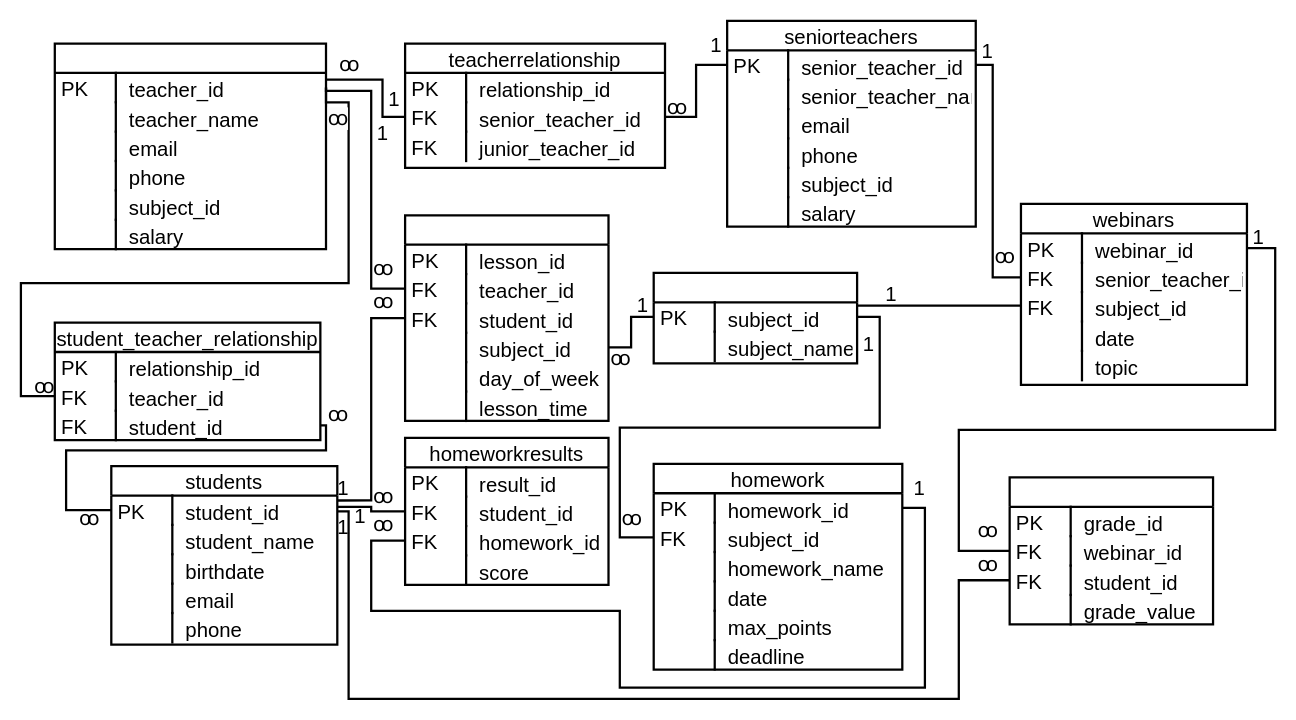
This 1296x720 diagram has some shape labels left out. The box of each missing label's shape, as (x1, y1, x2, y2) in pixels:
grades: (1008, 476, 1214, 625)
lessons: (403, 214, 609, 421)
subjects: (652, 271, 858, 364)
teachers: (53, 42, 327, 250)
